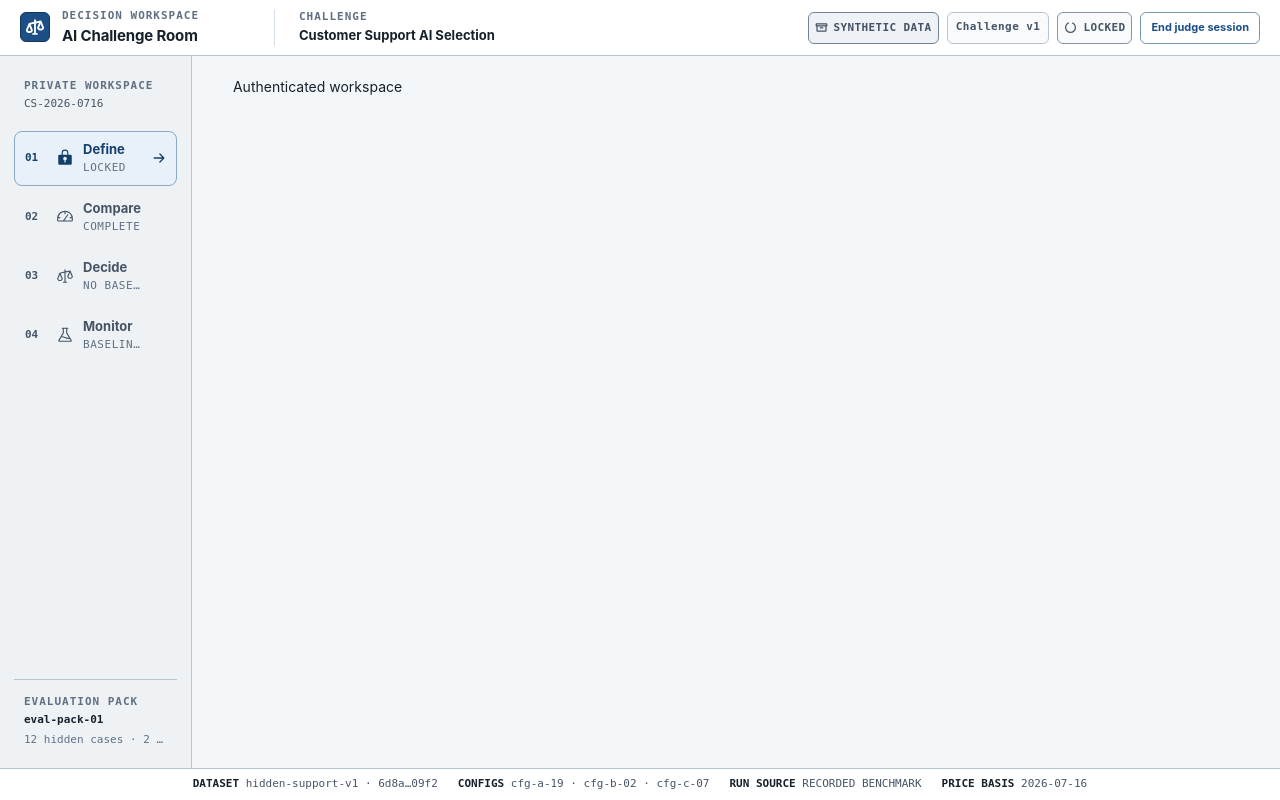
Test case: Sites 심사위원 접근 게이트 › logout 요청이 실패해도 보호된 업무 화면을 계속 노출하지 않는다
Click the button "End judge session" at (1200, 28), box [1140, 12, 1260, 44]
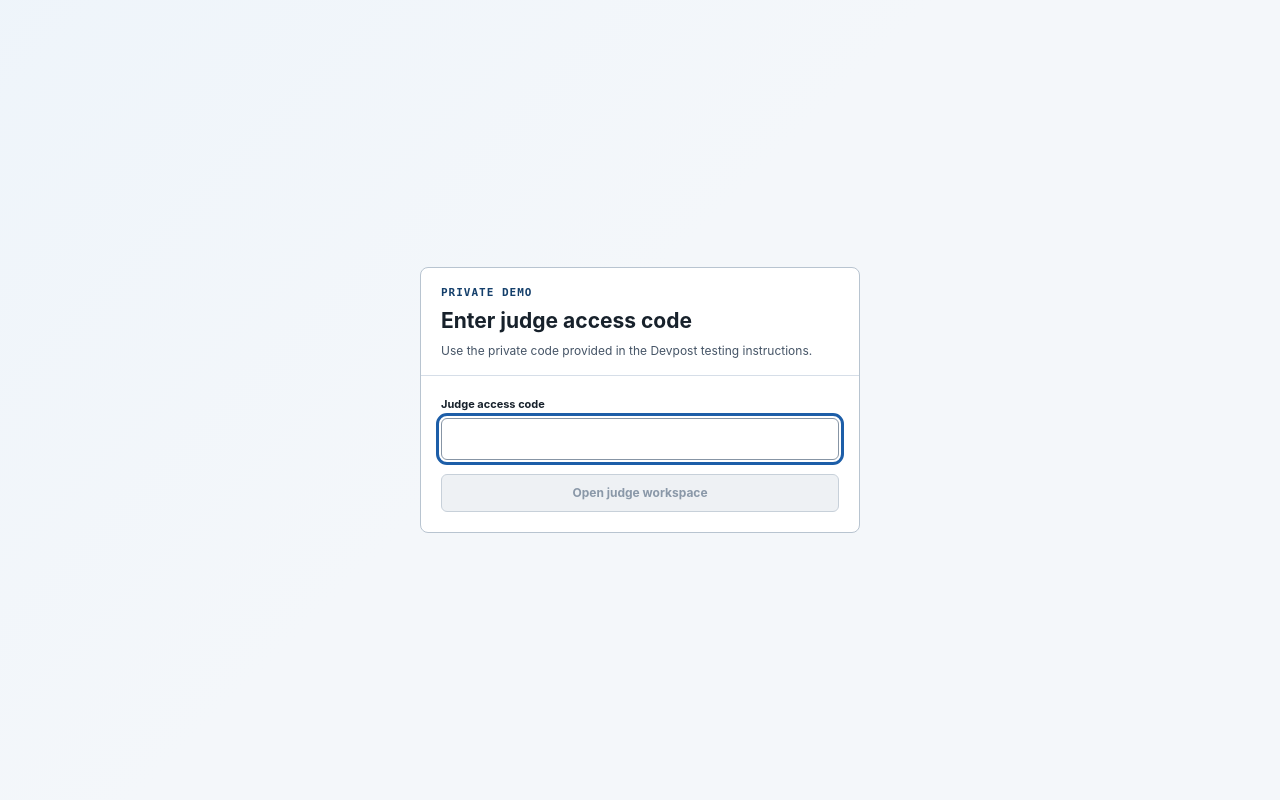
Now the heading "Enter judge access code" is shown, box [441, 308, 692, 333]
